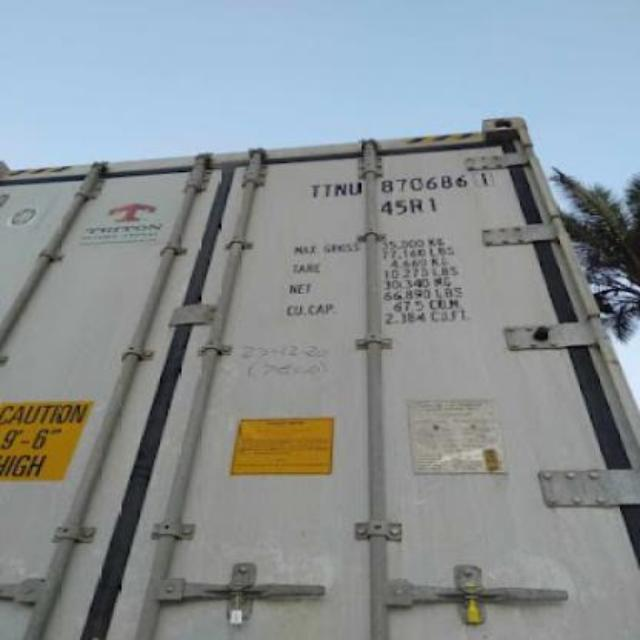0: (408, 170, 424, 192)
1: (476, 165, 496, 191)
6: (422, 170, 438, 194), (454, 168, 468, 188)
7: (392, 170, 408, 193)
8: (378, 173, 394, 197), (441, 170, 454, 190)
N: (334, 178, 348, 200)
T: (302, 175, 320, 202), (322, 178, 334, 200)
U: (348, 178, 362, 198)
